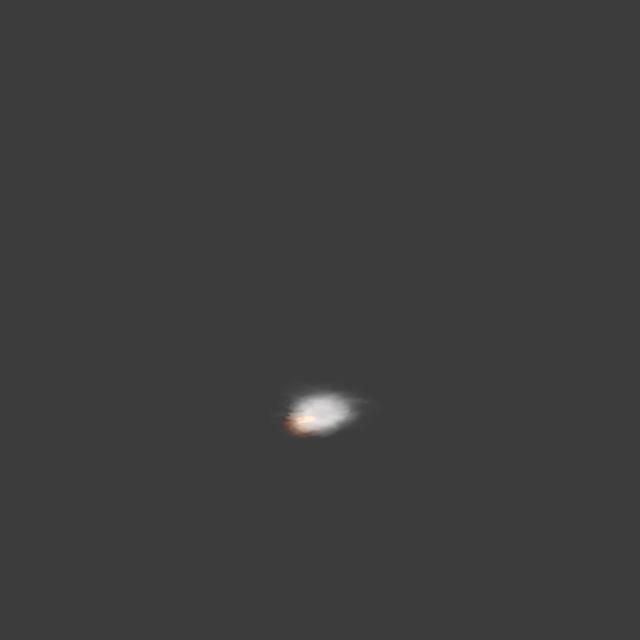fire: (286, 417, 316, 432)
smoke: (278, 387, 362, 438)
